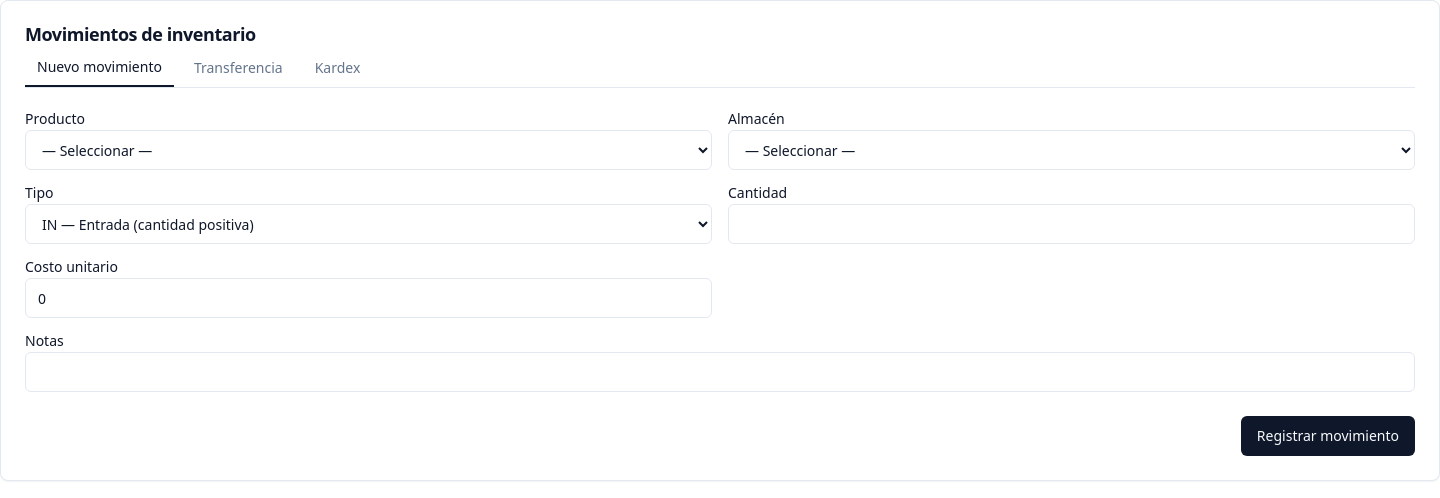
MovementsPage › en el tab Kardex muestra los movimientos del backend
Click the button "Kardex".
click(338, 68)  # box x1=303 y1=49 x2=372 y2=87
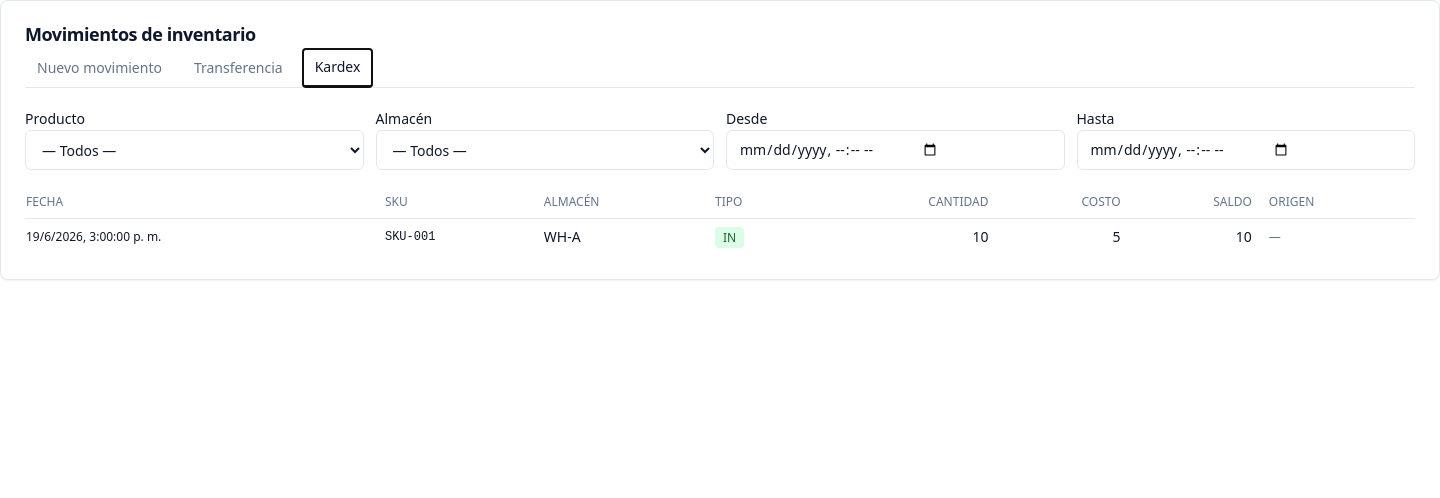
expect the text "SKU-001" is shown: met, box x1=384 y1=218 x2=543 y2=255
expect the text "IN" is shown: met, box x1=715 y1=227 x2=744 y2=248
expect the text "WH-A" is shown: met, box x1=543 y1=218 x2=714 y2=255
